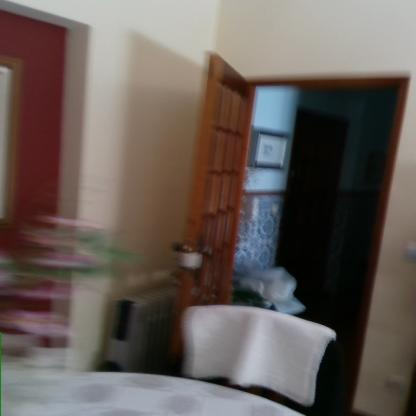open: (181, 41, 414, 414)
